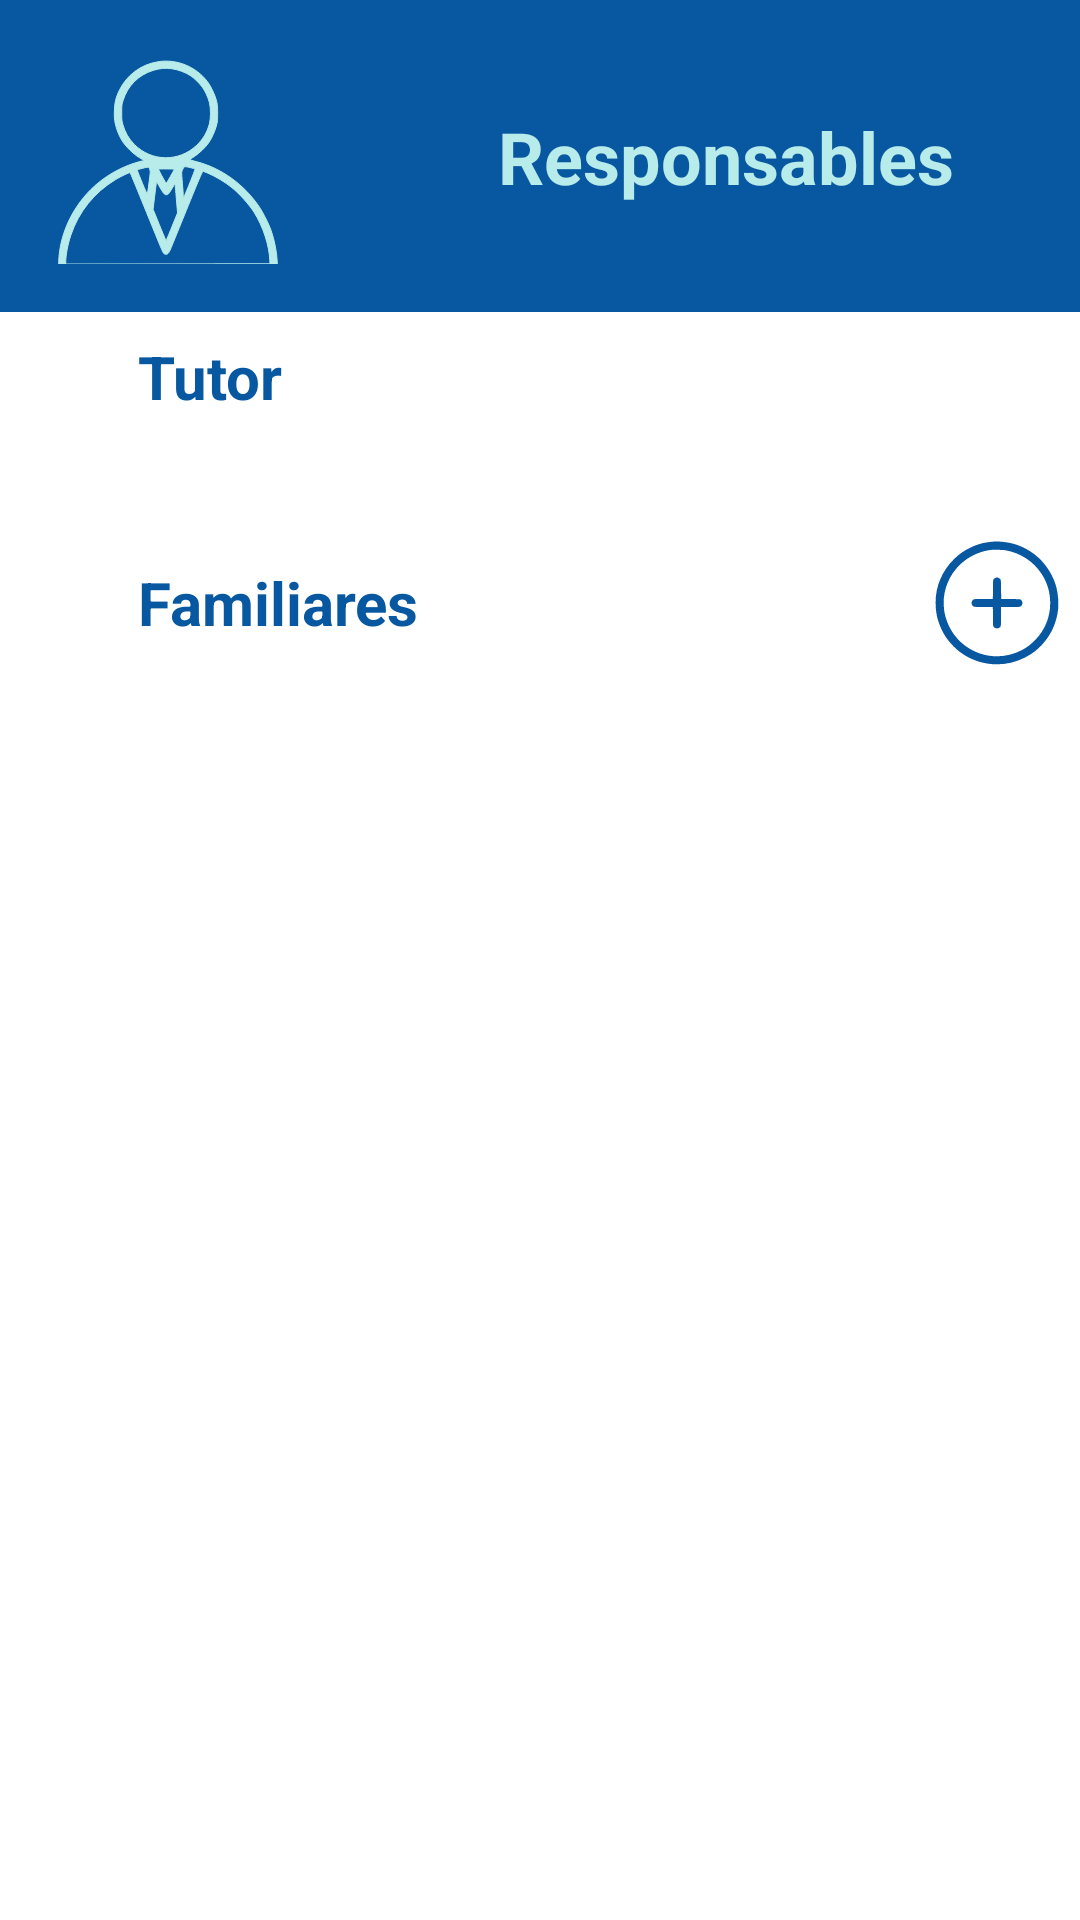

Icon click points for this 1080×1920 phone screenshot, format point (x, y):
Agregar familiar: point (997, 603)
parents: point (168, 162)
